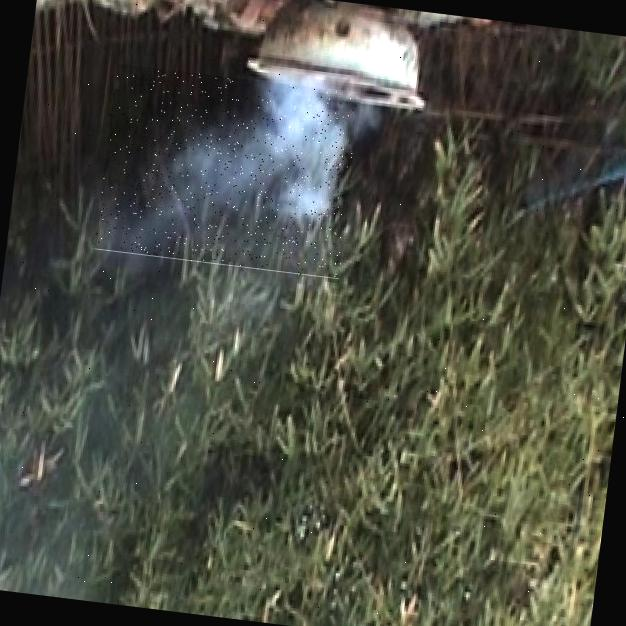smoke: (94, 63, 361, 279)
